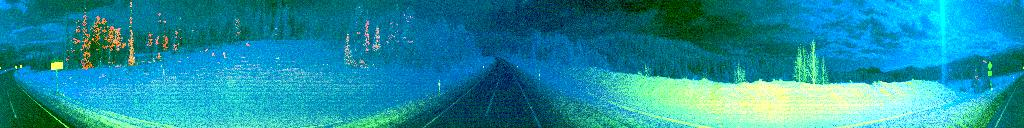pole: (437, 78, 441, 96), (538, 68, 541, 82)
